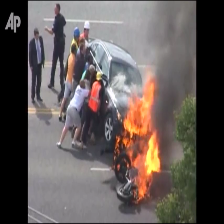fire_h: (122, 63, 161, 202)
fire_l: (113, 135, 120, 160), (117, 159, 130, 172)
